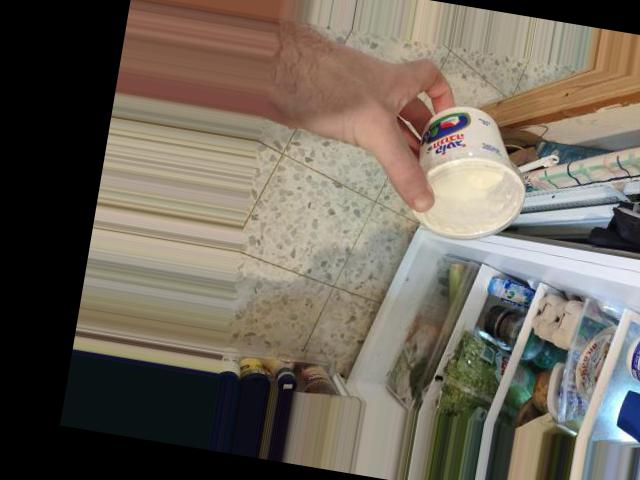cotage: (402, 100, 528, 243)
